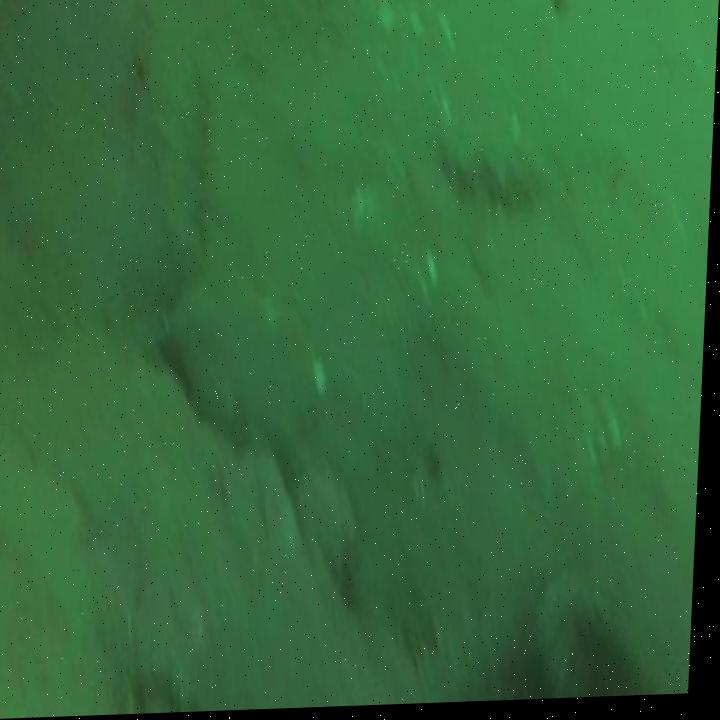holothurian: (149, 49, 222, 271), (432, 115, 554, 220), (421, 583, 530, 698)
